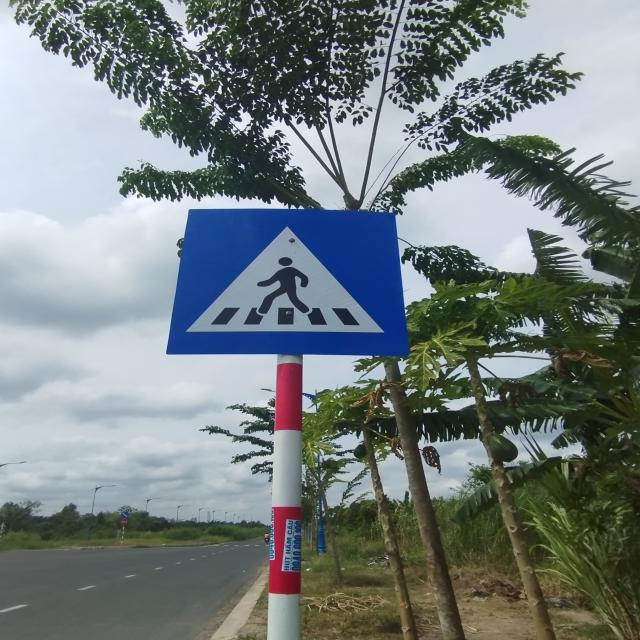Giao_Nhau_Duong_Uu_Tien: (166, 207, 408, 355)
